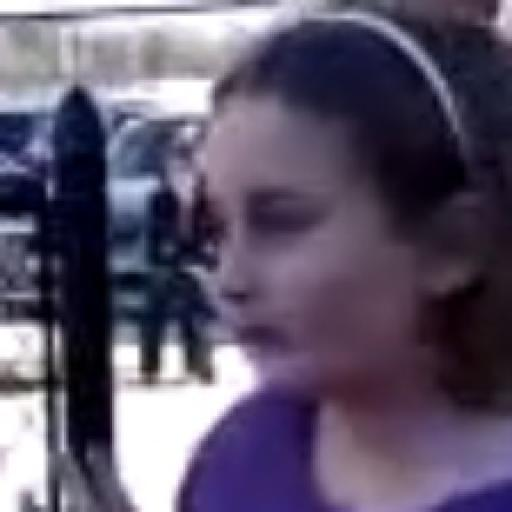Autism: (143, 64, 512, 468)
